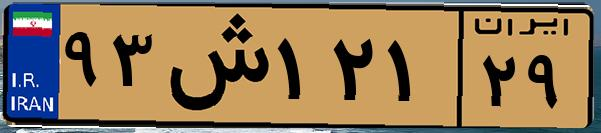1: (270, 28, 330, 110), (385, 28, 445, 110)
2: (330, 28, 385, 110), (475, 38, 525, 113)
3: (110, 28, 158, 98)
9: (57, 26, 110, 100), (525, 38, 570, 115)
ش: (158, 12, 270, 120)
